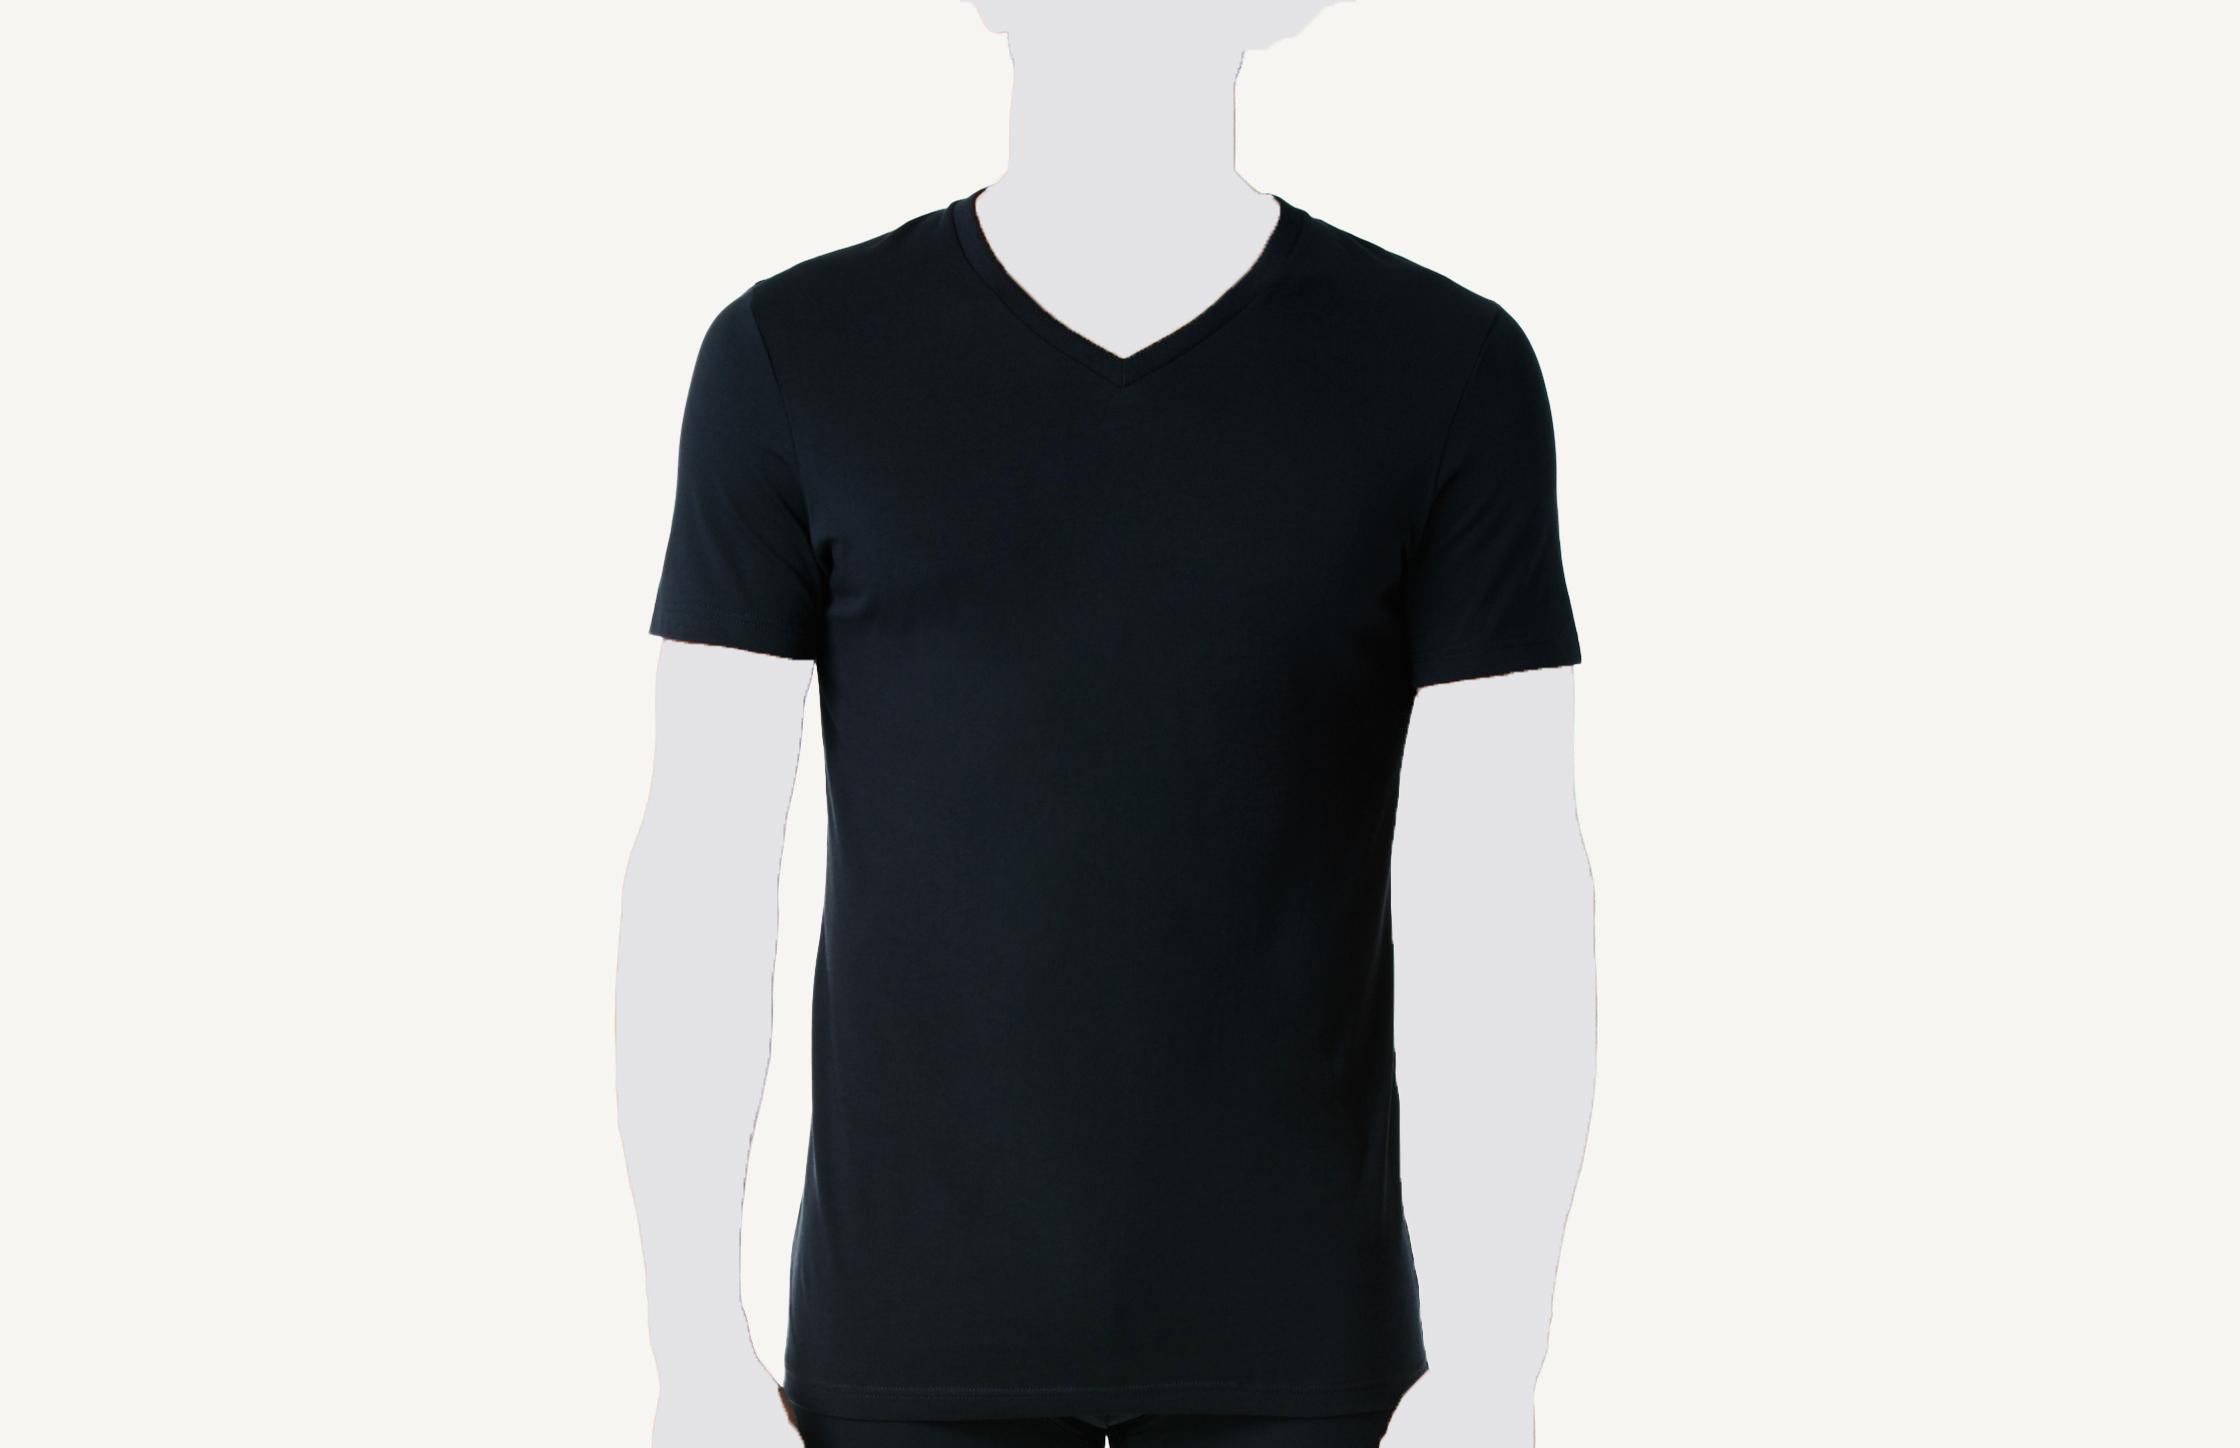teeshirt: (633, 184, 1592, 1448)
